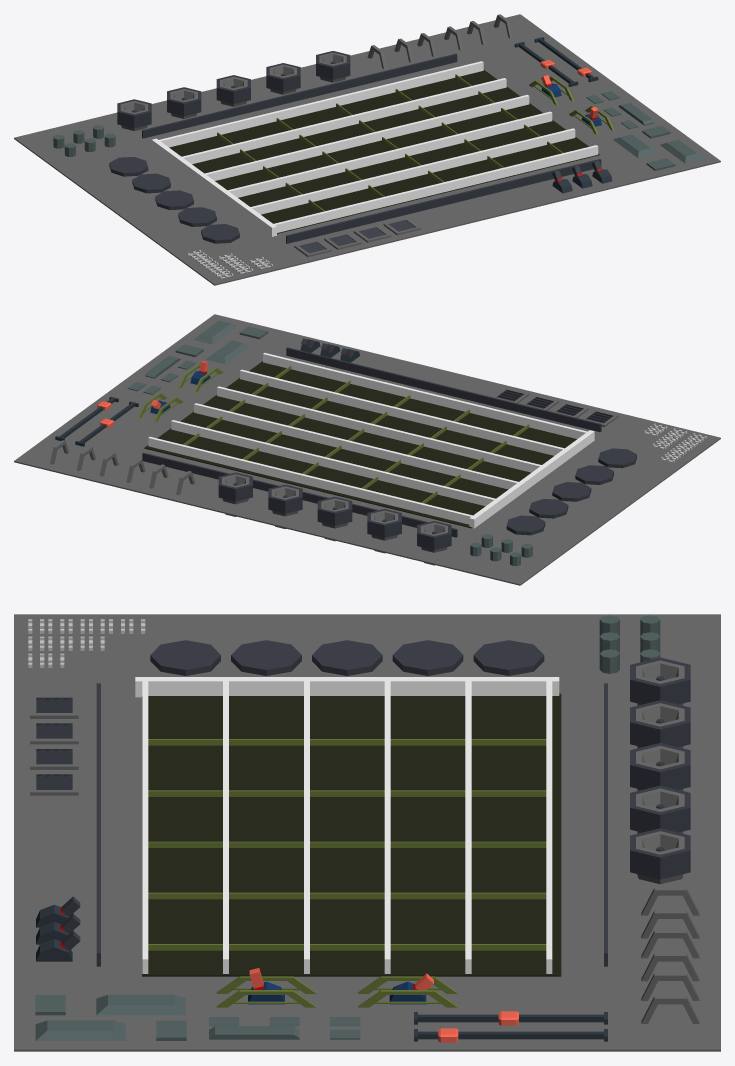
File: panel_music_detailed.glb
3 renders of one model, top to bottom at view 1: azimuth 30°, elevation 25°; view 2: azimuth 150°, elevation 25°; view 3: azimuth 270°, elevation 25°, orthographic. The views are drawn at different scales.
Visible parts, largest first — view 1: block (×10), roof_flatCenter, engine_turbine (×5), cylinderVertex (×5), detail_panelsA, detail_panelsB; view 2: block (×10), roof_flatCenter, engine_turbine (×5), cylinderVertex (×5), detail_panelsA, detail_panelsB; view 3: block (×17), roof_flatCenter, engine_turbine (×5), cylinderVertex (×5), detail_panelsA, panel_vent (×4), gear_bars (×3), gear_barsEnforced (×2), detail_panelsB.
Boxes of the visible parts, x1,y1,x2,y2 form: block (×10): [14, 14, 720, 285]; roof_flatCenter: [169, 70, 599, 233]; engine_turbine (×5): [117, 51, 350, 130]; cylinderVertex (×5): [109, 157, 239, 243]; detail_panelsA: [613, 126, 704, 170]; detail_panelsB: [586, 91, 654, 129]; block (×10): [14, 314, 720, 585]; roof_flatCenter: [144, 361, 576, 528]; engine_turbine (×5): [218, 472, 451, 565]; cylinderVertex (×5): [506, 448, 636, 535]; detail_panelsA: [175, 320, 268, 364]; detail_panelsB: [127, 356, 195, 394]; block (×17): [14, 614, 720, 1051]; roof_flatCenter: [142, 693, 561, 976]; engine_turbine (×5): [630, 657, 690, 884]; cylinderVertex (×5): [150, 640, 544, 675]; detail_panelsA: [35, 994, 186, 1040]; panel_vent (×4): [30, 695, 78, 795]; gear_bars (×3): [641, 887, 699, 1023]; gear_barsEnforced (×2): [216, 976, 457, 1007]; detail_panelsB: [209, 1017, 360, 1039].
Size of the model in its own units: 51 by 3 by 35.
